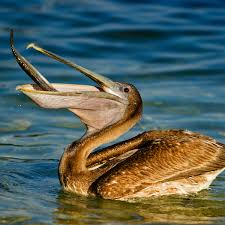pelican: (17, 43, 225, 200)
